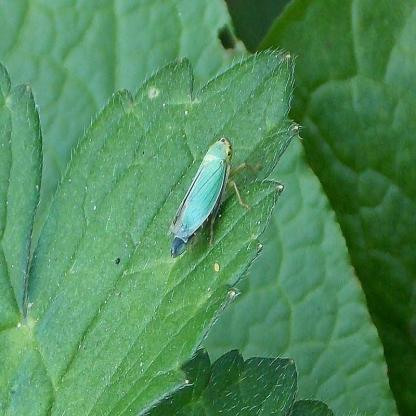Green-Leafhopper: (168, 130, 258, 266)
